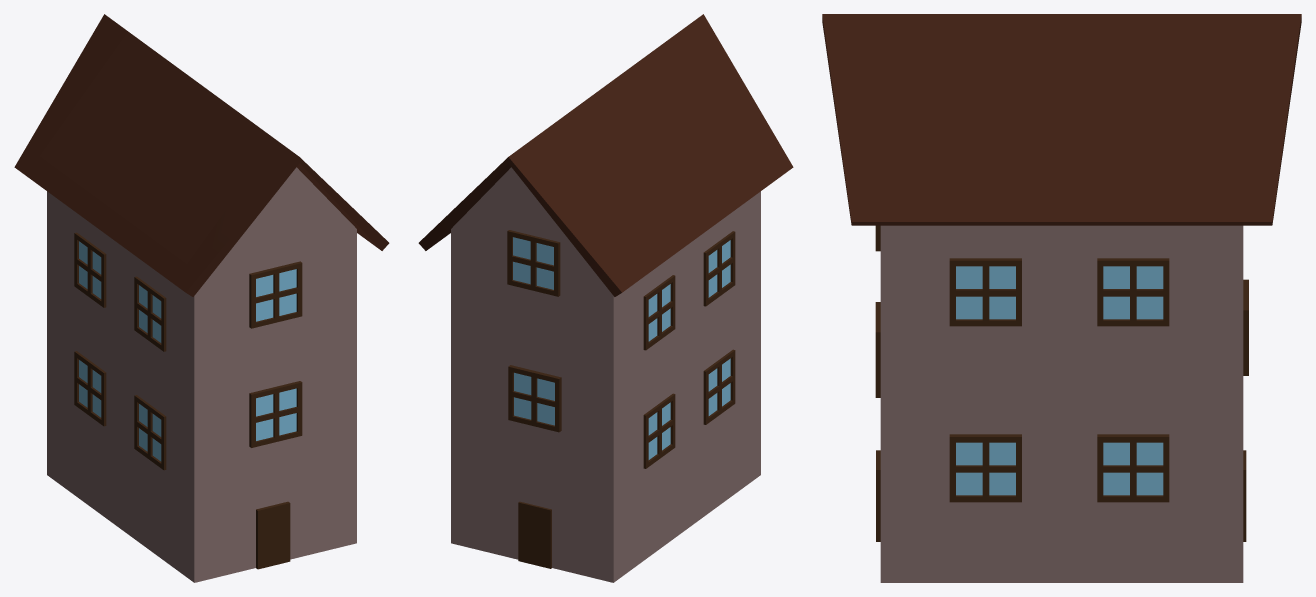
The model's file is House_BuildingBig.fbx.
3 renders of one model, left to right at view 1: azimuth 30°, elevation 25°; view 2: azimuth 150°, elevation 25°; view 3: azimuth 270°, elevation 25°, orthographic. The views are drawn at different scales.
Visible parts, largest first — view 1: House_BuildingBig; view 2: House_BuildingBig; view 3: House_BuildingBig.
Part boxes in pixels (x1,y1,x2,y2): House_BuildingBig: (14,14,389,582); House_BuildingBig: (418,14,793,582); House_BuildingBig: (822,14,1301,582).
Bounding box in the file's own units: 28.85 × 57.33 × 47.86.
